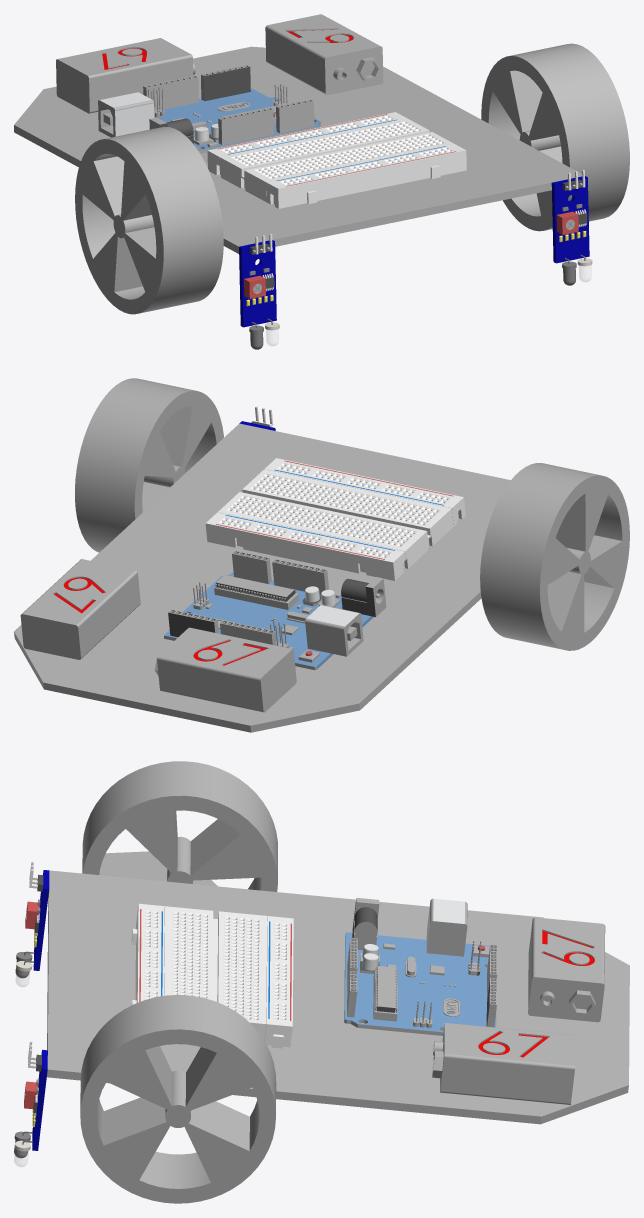
Rendered from utra_robot.gltf.
3 views of the same model, one above another, from view 1: azimuth 30°, elevation 25°; view 2: azimuth 150°, elevation 25°; view 3: azimuth 270°, elevation 25° (orthographic). The views are drawn at different scales.
Visible parts, largest first — view 1: plate-1, wheel-2, wheel-1, Breadboard_400pin-1, ARDUINO UNO R3-1, battery(9V)-2, battery(9V)-1, Infrared Sensor-1, Infrared Sensor-2; view 2: plate-1, wheel-2, Breadboard_400pin-1, wheel-1, ARDUINO UNO R3-1, battery(9V)-1, battery(9V)-2; view 3: plate-1, wheel-1, wheel-2, ARDUINO UNO R3-1, Breadboard_400pin-1, battery(9V)-2, battery(9V)-1, Infrared Sensor-1, Infrared Sensor-2.
Part boxes in pixels (<box>): plate-1: <box>14,46,582,253</box>; wheel-2: <box>75,126,223,314</box>; wheel-1: <box>481,43,629,231</box>; Breadboard_400pin-1: <box>207,112,466,208</box>; ARDUINO UNO R3-1: <box>98,65,320,153</box>; battery(9V)-2: <box>265,14,383,95</box>; battery(9V)-1: <box>56,38,195,113</box>; Infrared Sensor-1: <box>239,234,279,349</box>; Infrared Sensor-2: <box>551,170,592,285</box>; plate-1: <box>14,423,510,732</box>; wheel-2: <box>480,463,629,650</box>; Breadboard_400pin-1: <box>205,458,465,580</box>; wheel-1: <box>75,378,223,552</box>; ARDUINO UNO R3-1: <box>164,550,386,669</box>; battery(9V)-1: <box>155,627,296,712</box>; battery(9V)-2: <box>20,559,140,659</box>; plate-1: <box>47,870,629,1124</box>; wheel-1: <box>80,995,276,1203</box>; wheel-2: <box>82,761,277,891</box>; ARDUINO UNO R3-1: <box>344,897,497,1035</box>; Breadboard_400pin-1: <box>131,903,293,1048</box>; battery(9V)-2: <box>432,1022,575,1104</box>; battery(9V)-1: <box>528,917,605,1022</box>; Infrared Sensor-1: <box>15,861,49,986</box>; Infrared Sensor-2: <box>14,1041,47,1166</box>.
Size of the model in its own units: 0.2043 by 0.0771 by 0.2109.
